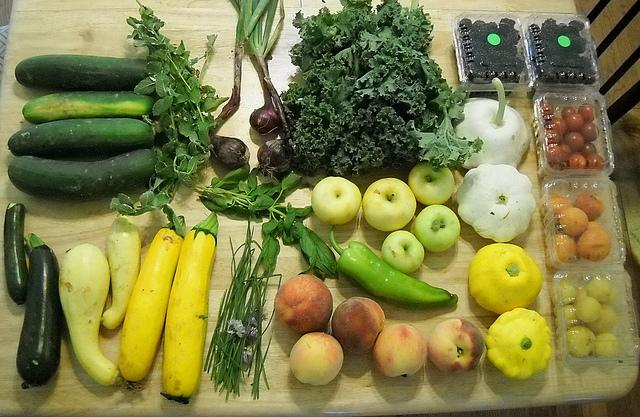apple: (362, 178, 417, 232), (310, 176, 362, 226), (408, 160, 455, 206), (414, 205, 460, 252), (381, 230, 425, 274)
blackberry: (474, 24, 490, 40), (568, 68, 584, 84), (567, 20, 584, 34), (459, 18, 473, 32), (499, 52, 514, 63), (564, 56, 577, 68), (506, 45, 518, 58), (465, 63, 476, 74), (498, 23, 509, 34), (540, 31, 551, 42), (542, 20, 552, 32), (584, 68, 596, 76), (560, 66, 568, 78), (472, 48, 482, 57), (486, 46, 496, 55), (498, 70, 506, 81), (474, 54, 485, 62), (487, 22, 498, 30), (497, 63, 506, 72), (558, 50, 568, 58), (564, 48, 574, 56), (490, 28, 500, 35), (578, 46, 586, 53), (483, 77, 490, 84), (544, 52, 552, 57), (534, 62, 540, 68), (512, 79, 518, 84), (513, 62, 518, 68)
cucumber: (8, 149, 160, 203), (7, 118, 156, 156), (15, 54, 148, 92), (22, 90, 156, 126)
peach: (274, 274, 334, 332), (427, 318, 486, 374), (372, 323, 428, 378), (332, 297, 386, 354), (290, 332, 344, 386)
tomato: (563, 131, 586, 153), (548, 144, 572, 164), (580, 122, 600, 143), (578, 103, 598, 123), (549, 116, 568, 136), (585, 152, 605, 170), (567, 152, 587, 169), (566, 113, 584, 131), (546, 128, 560, 144), (561, 108, 576, 121), (543, 113, 555, 128), (550, 161, 568, 170)
vegetable marrow: (118, 204, 186, 382), (160, 211, 218, 404), (7, 148, 158, 202), (17, 233, 62, 389), (8, 117, 154, 161), (15, 54, 149, 92), (22, 90, 156, 125), (4, 202, 28, 306)
